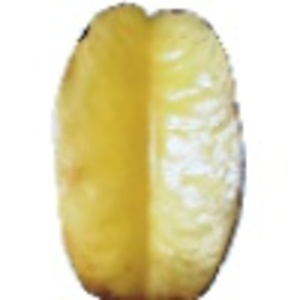carambola: (53, 3, 247, 300)
